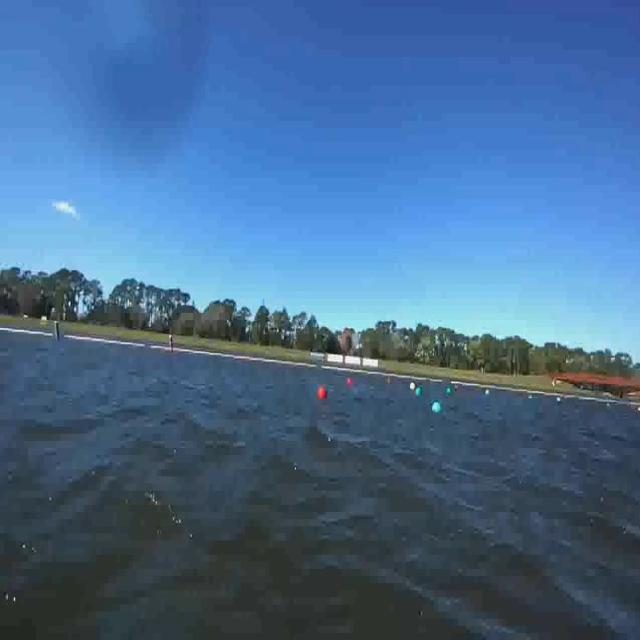green-buoy: (431, 402, 442, 416), (445, 384, 454, 399), (415, 385, 423, 401)
red-buoy: (344, 375, 357, 390), (317, 386, 327, 400)
